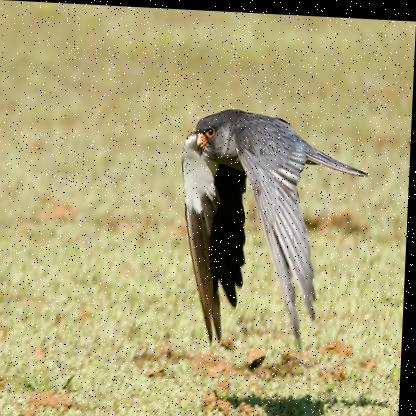Burung: (176, 105, 374, 345)
